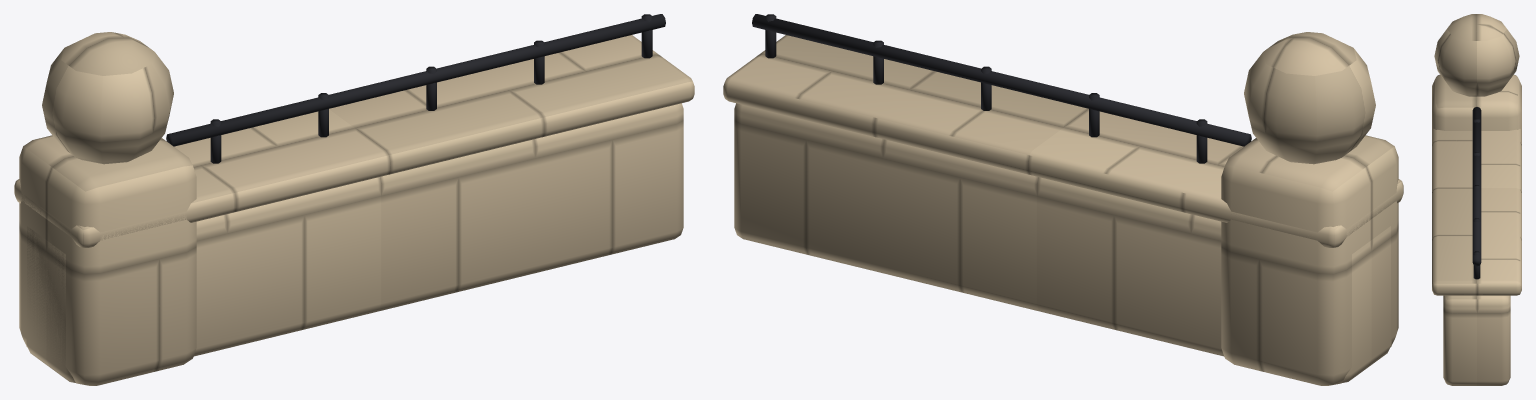
The model's file is parapet.gltf.
3 views of the same model, side by side, from view 1: azimuth 30°, elevation 25°; view 2: azimuth 150°, elevation 25°; view 3: azimuth 270°, elevation 25° (orthographic). The views are drawn at different scales.
Visible parts, largest first — view 1: parapet_mesh; view 2: parapet_mesh; view 3: parapet_mesh.
Boxes of the visible parts, x1,y1,x2,y2 form: parapet_mesh: [14, 14, 694, 385]; parapet_mesh: [723, 14, 1403, 385]; parapet_mesh: [1432, 14, 1521, 385].
Size of what is drawn, in the model's own units: 4 by 1.98 by 0.8.
Materials: 2 (1 with a texture image).
